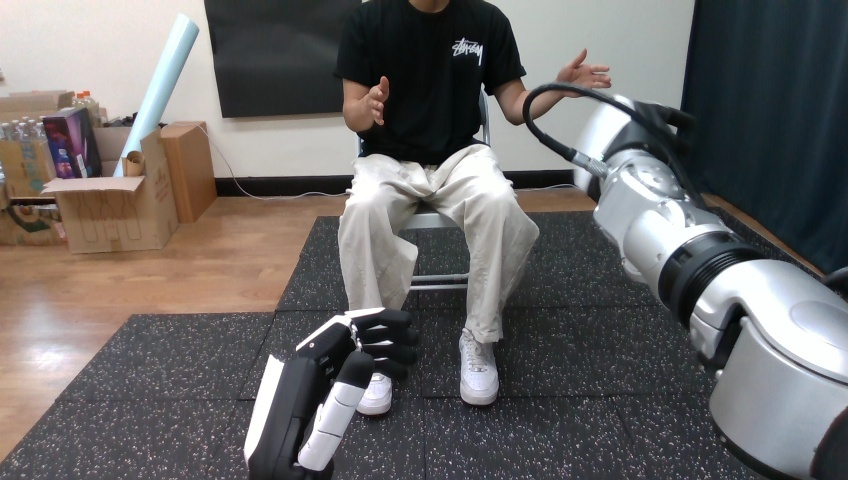left robot hand: (524, 84, 847, 478), (244, 308, 417, 478)
